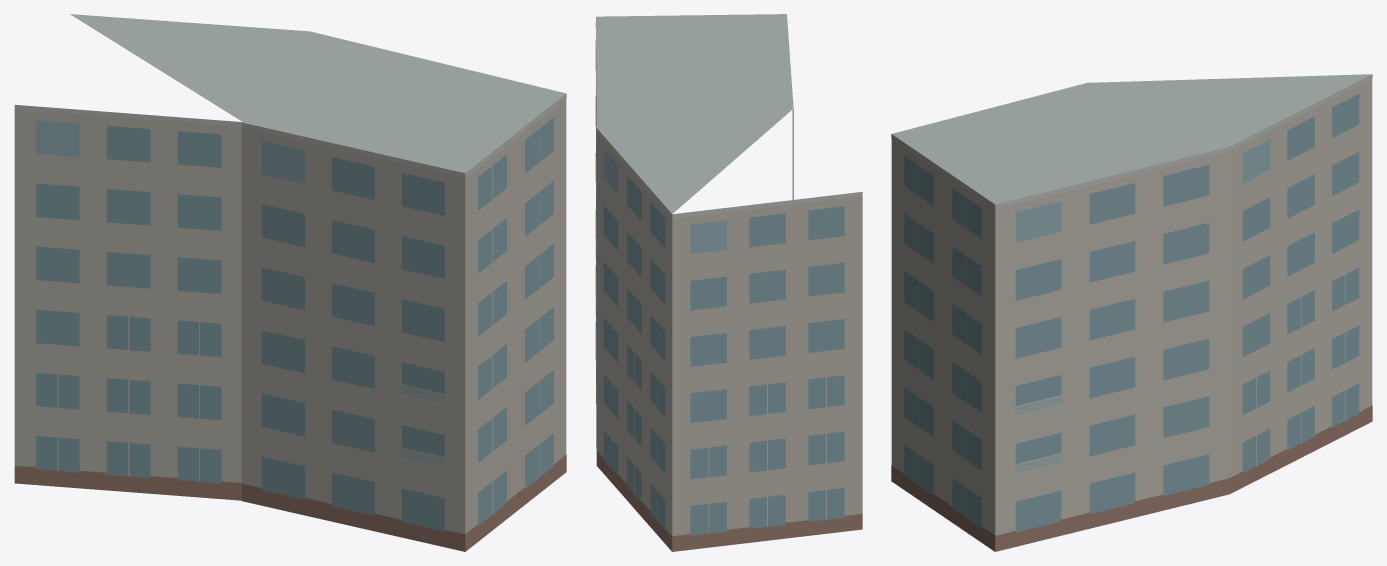
The model's file is survey-upis-32956534.glb.
The picture shows the model from 3 angles, left to right: view 1: azimuth 30°, elevation 25°; view 2: azimuth 150°, elevation 25°; view 3: azimuth 270°, elevation 25°; orthographic projection. The views are drawn at different scales.
Visible parts, largest first — view 1: survey-upis-32956534.tmp; view 2: survey-upis-32956534.tmp; view 3: survey-upis-32956534.tmp.
Part boxes in pixels (<box>): survey-upis-32956534.tmp: <box>14,14,566,551</box>; survey-upis-32956534.tmp: <box>595,14,862,551</box>; survey-upis-32956534.tmp: <box>891,74,1372,551</box>.
Bounding box in the file's own units: 21.53 × 18.3 × 22.97.
